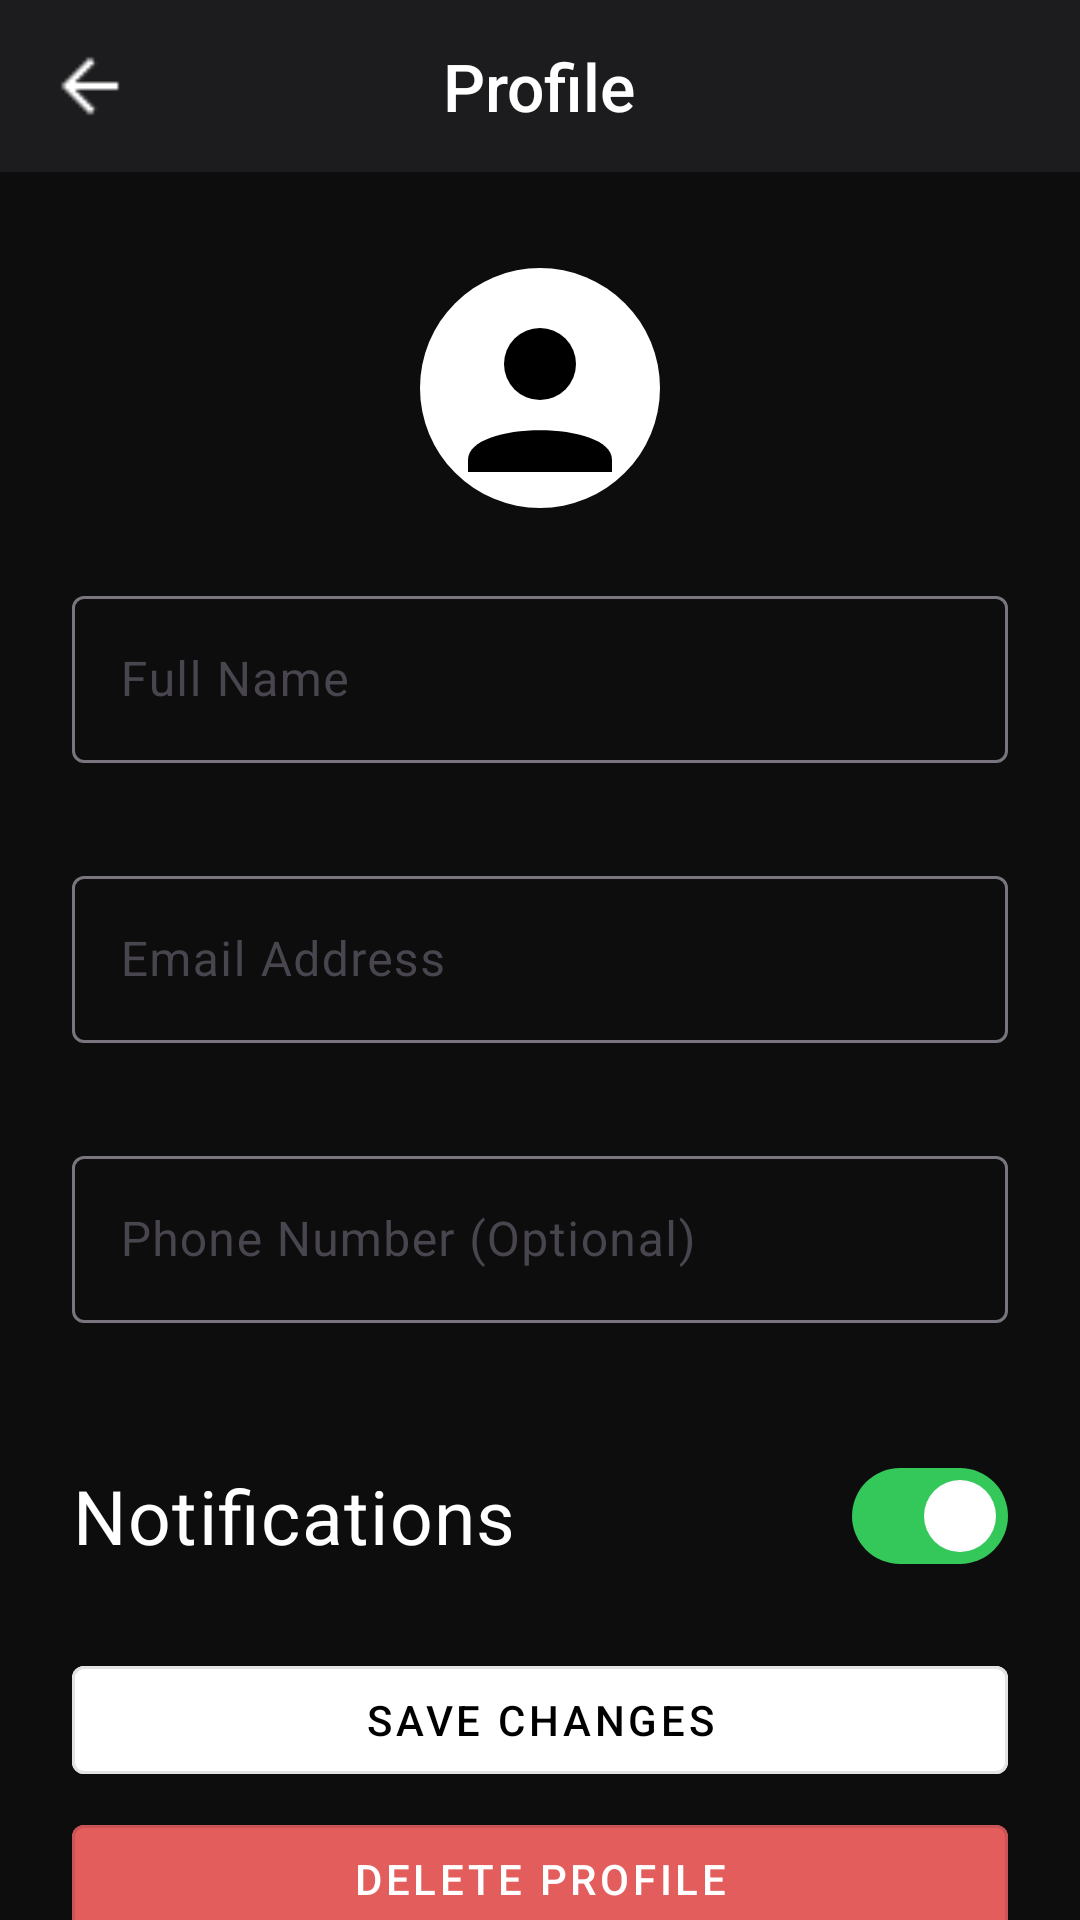

Where icons sit on this 1080px×1920px app screen, as bbox=[x1, y1, x2, y2]:
Back: bbox=[61, 57, 119, 115]
